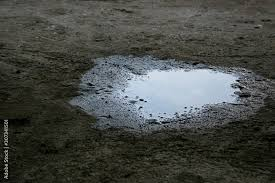Wet-floor: (72, 40, 259, 142)
